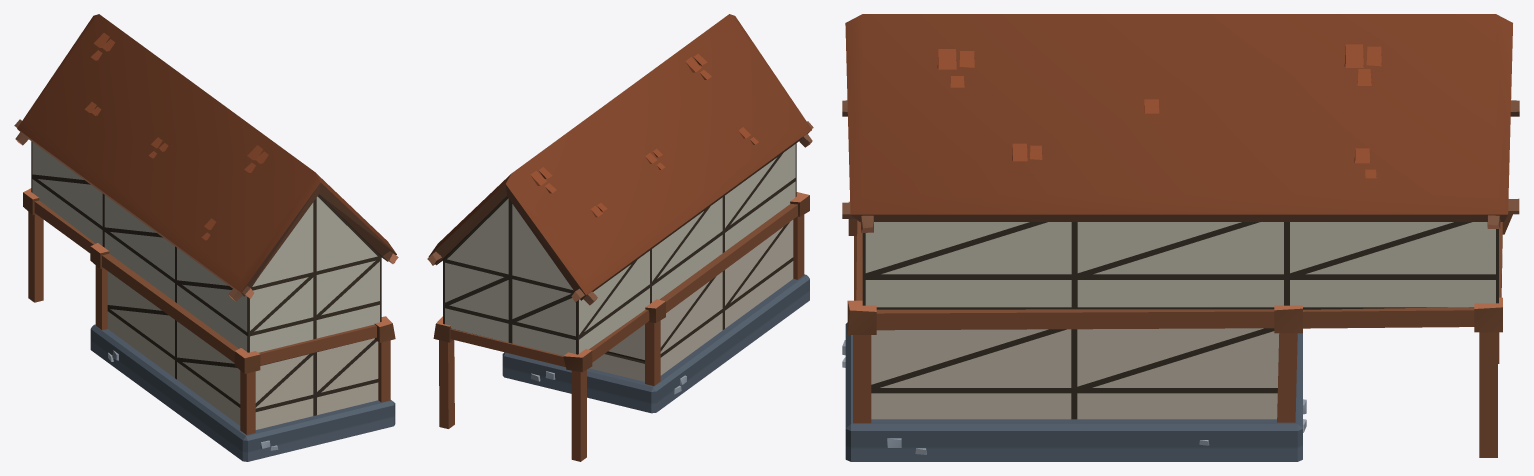
File: house-ver9-large.glb
The picture shows the model from 3 angles, left to right: view 1: azimuth 30°, elevation 25°; view 2: azimuth 150°, elevation 25°; view 3: azimuth 270°, elevation 25°; orthographic projection. The views are drawn at different scales.
Visible parts, largest first — view 1: House-ver9-large_Texture-base_0; view 2: House-ver9-large_Texture-base_0; view 3: House-ver9-large_Texture-base_0.
Part boxes in pixels (box(x1,y1,x2,y2)): House-ver9-large_Texture-base_0: box(14, 14, 398, 461); House-ver9-large_Texture-base_0: box(427, 14, 813, 461); House-ver9-large_Texture-base_0: box(842, 14, 1519, 461).
Bounding box in the file's own units: 5.69 × 8.74 × 13.65.
Materials: 1 (1 with a texture image).
